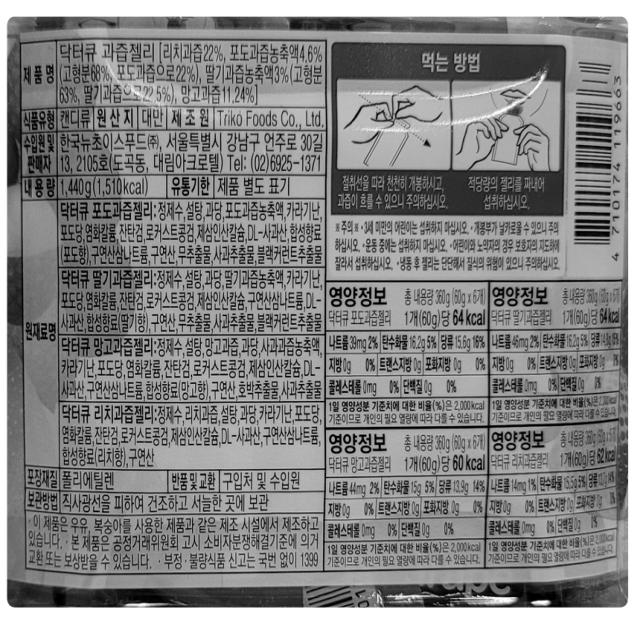Nutrition Label: (326, 276, 491, 426)
